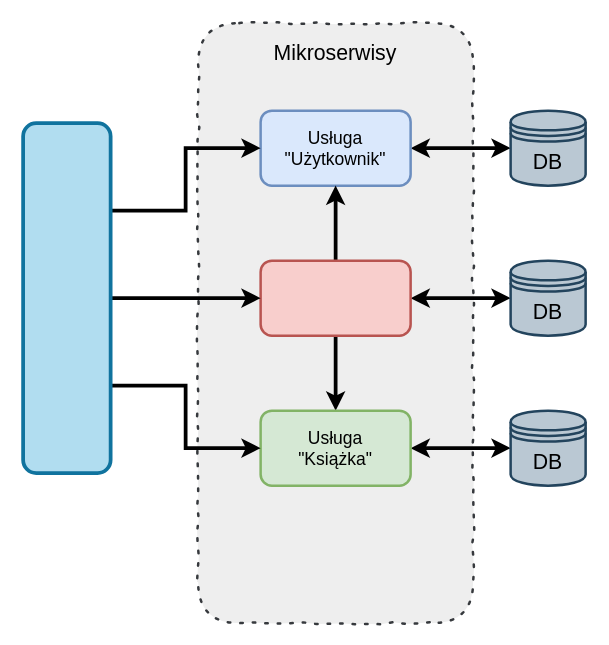
Image size: 609x645. Some labels were removed from this diagram. Each missing label, with the box of its shape:
API: (21, 121, 112, 474)
Usługa "Zamównienie": (259, 259, 411, 336)
